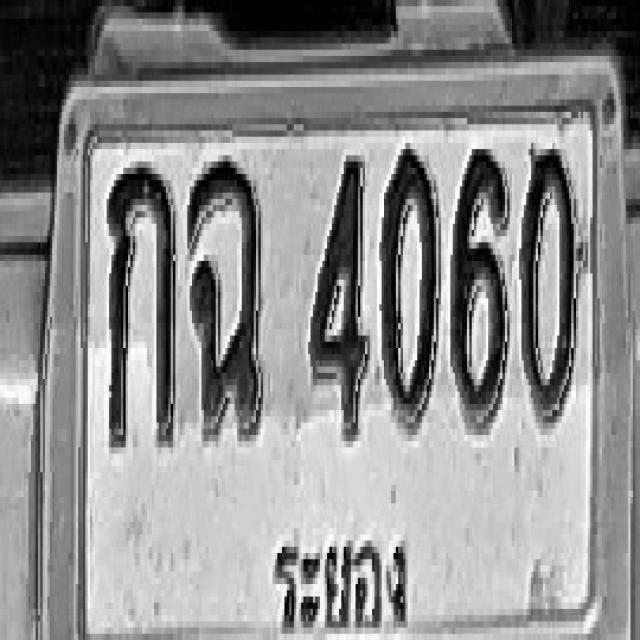0: (519, 143, 581, 422), (380, 143, 438, 429)
10GorGai: (107, 158, 175, 450)
18ChorChing: (187, 156, 263, 442)
4: (308, 152, 368, 438)
6: (450, 143, 508, 429)
Rayong: (264, 518, 414, 637)
